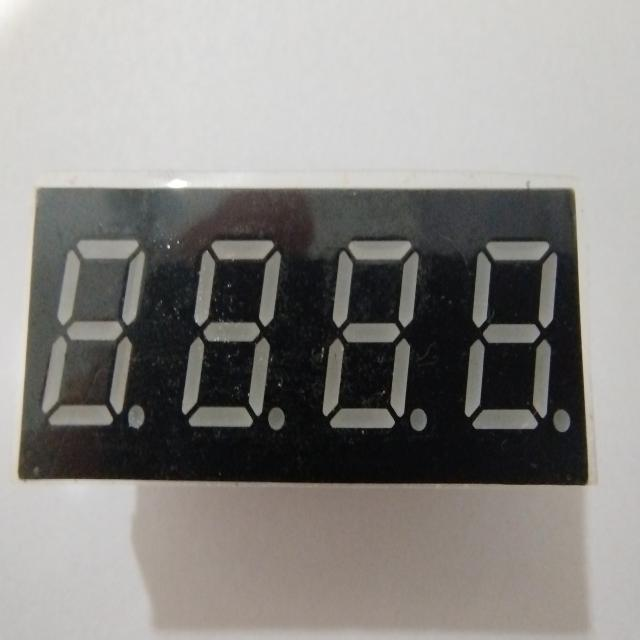7_segments_4_digits: (9, 158, 602, 507)
